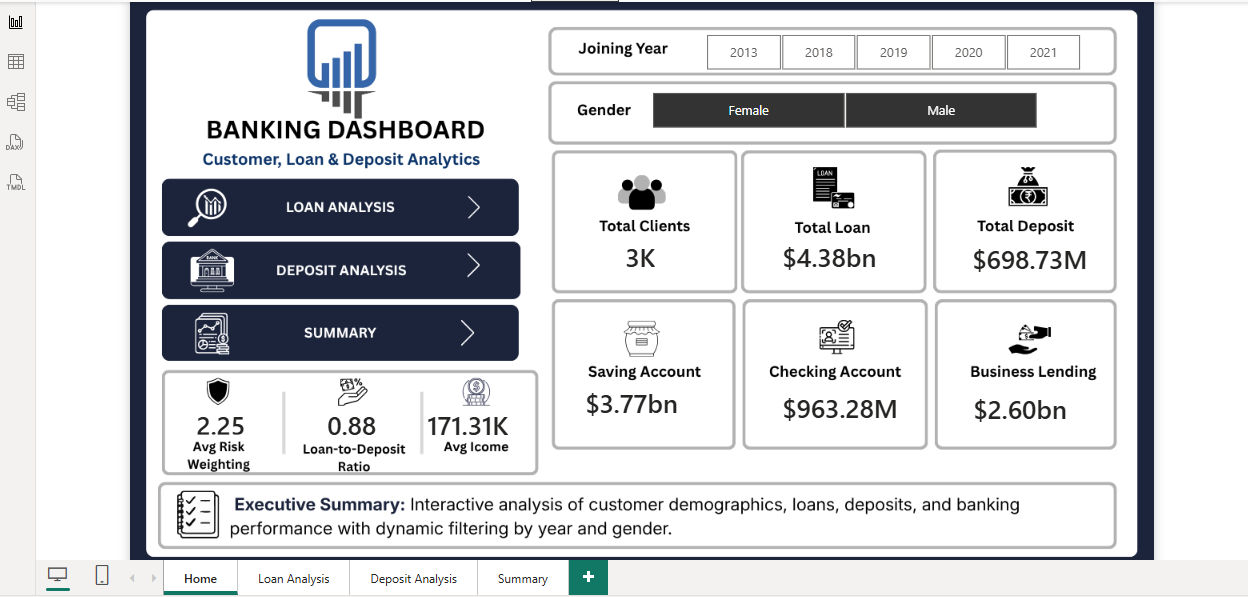

What the dashboard file says about the page in this screenshot:
{"tool":"powerbi","page":{"name":"Home","canvas":[1280,720],"ordinal":0},"visuals":[{"type":"cardVisual","fields":{"Data":["public customers.count"]},"box":[590,288.6,181.4,84.3],"z":0},{"type":"cardVisual","fields":{"Data":["public customers.total loan"]},"box":[785.7,288.6,238.6,84.3],"z":1000},{"type":"cardVisual","fields":{"Data":["public customers.Total Deposits"]},"box":[540,471.4,198.6,84.3],"z":2000},{"type":"cardVisual","fields":{"Data":["Sum(public customers.checking_accounts)"]},"box":[785.7,477.1,204.3,84.3],"z":3000},{"type":"cardVisual","fields":{"Data":["Sum(public customers.saving_accounts)"]},"box":[1024.3,288.6,237.1,71.4],"z":4000},{"type":"cardVisual","fields":{"Data":["Sum(public customers.business_lending)"]},"box":[1025,476.7,200,71.7],"z":5000},{"type":"slicer","fields":{"Values":["public customers.genderid"]},"box":[630,114.3,527.1,52.9],"z":6000},{"type":"slicer","fields":{"Values":["public customers.joined_bank.Variation.Date Hierarchy.Year"]},"box":[697.1,41.4,514.3,52.9],"z":7000},{"type":"actionButton","box":[44.7,226.7,438.7,72],"z":8000},{"type":"actionButton","box":[44.8,307,438.7,69.1],"z":9000},{"type":"actionButton","box":[44.7,386,438.7,72],"z":10000},{"type":"cardVisual","fields":{"Data":["public customers.Loan to Deposit Ratio"]},"box":[217.1,492.9,158.6,78.6],"z":11000},{"type":"cardVisual","fields":{"Data":["public customers.Average Income"]},"box":[343,493.2,185.7,76.5],"z":12000},{"type":"cardVisual","fields":{"Data":["public customers.Avg Risk Weighting"]},"box":[54.3,498.6,124.3,64.3],"z":13000}]}

Visuals, with their boxes on the page's 1280x720 design canvas (x1, y1, x2, y2). These are canvas units, not pixel positions in the 1248x597 screenshot, which may show the page scaled, cropped or inside an application window:
cardVisual - public customers.count: 590, 289, 771, 373
cardVisual - public customers.total loan: 786, 289, 1024, 373
cardVisual - public customers.Total Deposits: 540, 471, 739, 556
cardVisual - Sum(public customers.checking_accounts): 786, 477, 990, 561
cardVisual - Sum(public customers.saving_accounts): 1024, 289, 1261, 360
cardVisual - Sum(public customers.business_lending): 1025, 477, 1225, 548
slicer - public customers.genderid: 630, 114, 1157, 167
slicer - public customers.joined_bank.Variation.Date Hierarchy.Year: 697, 41, 1211, 94
actionButton: 45, 227, 483, 299
actionButton: 45, 307, 484, 376
actionButton: 45, 386, 483, 458
cardVisual - public customers.Loan to Deposit Ratio: 217, 493, 376, 572
cardVisual - public customers.Average Income: 343, 493, 529, 570
cardVisual - public customers.Avg Risk Weighting: 54, 499, 179, 563
